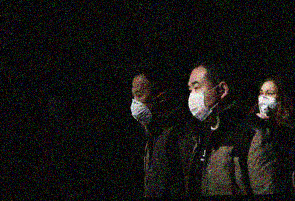with_mask: (187, 78, 213, 121), (130, 86, 153, 123), (256, 87, 278, 118)
